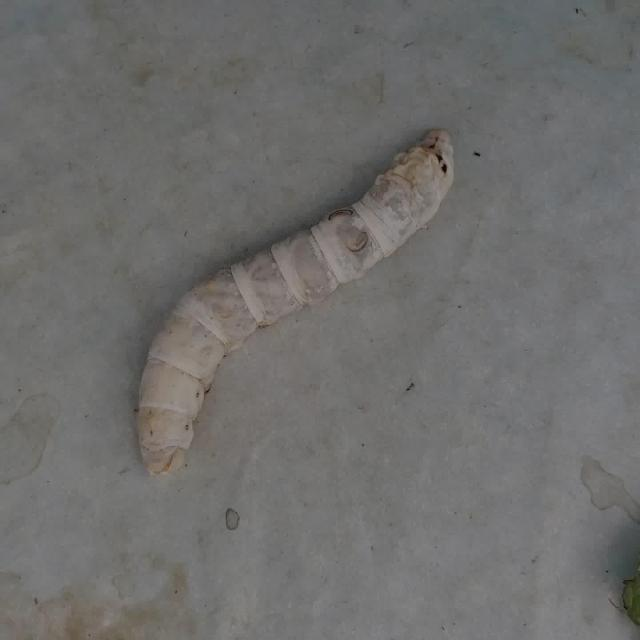Grasserie: (128, 100, 471, 498)
